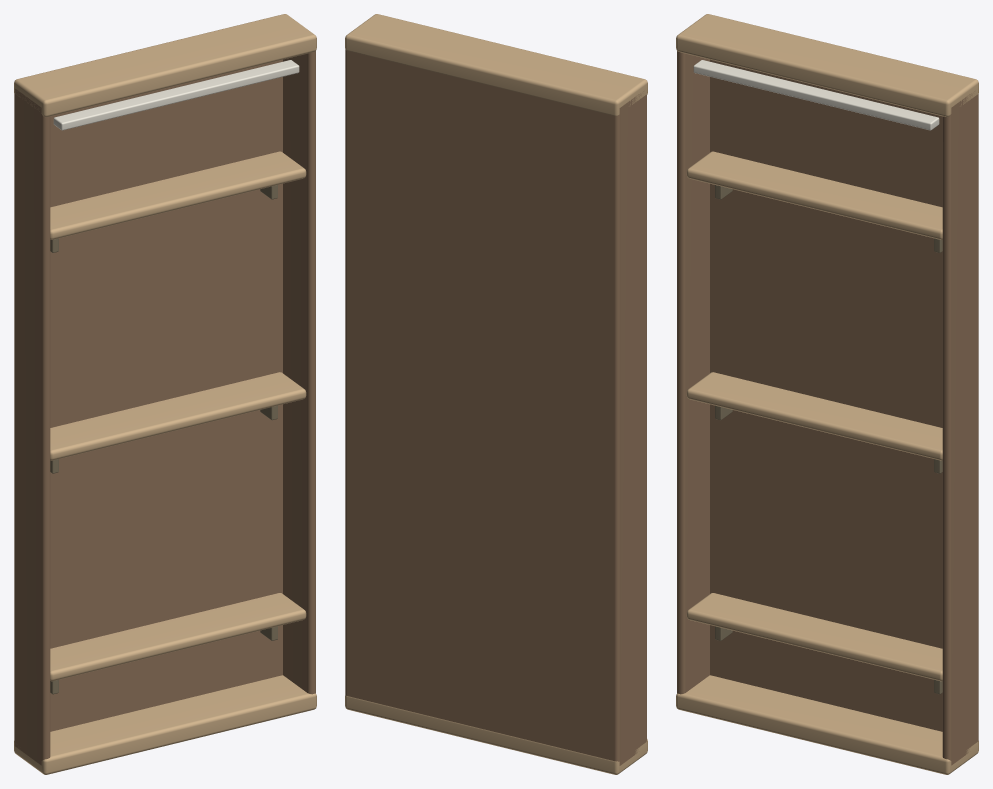
Rendered from wall_electronics_narrow.glb.
The picture shows the model from 3 angles, left to right: view 1: azimuth 30°, elevation 25°; view 2: azimuth 150°, elevation 25°; view 3: azimuth 330°, elevation 25°; orthographic projection.
Parts seen in each view (by area): view 1: Closed back, seated against existing opaque boundary, Outer stile, Outer stile.001, Bottom / crown.001, Bottom / crown, Load-bearing shelf.002, Load-bearing shelf, Load-bearing shelf.001, Integrated light diffuser; view 2: Closed back, seated against existing opaque boundary, Outer stile, Bottom / crown.001, Bottom / crown; view 3: Closed back, seated against existing opaque boundary, Outer stile.001, Outer stile, Bottom / crown.001, Bottom / crown, Load-bearing shelf.002, Load-bearing shelf, Load-bearing shelf.001, Integrated light diffuser.
Boxes of the visible parts, x1,y1,x2,y2 form: Closed back, seated against existing opaque boundary: (14, 59, 282, 745); Outer stile: (15, 89, 50, 765); Outer stile.001: (283, 51, 315, 694); Bottom / crown.001: (14, 14, 316, 116); Bottom / crown: (14, 675, 316, 774); Load-bearing shelf.002: (50, 151, 306, 239); Load-bearing shelf: (50, 593, 306, 681); Load-bearing shelf.001: (50, 372, 306, 460); Integrated light diffuser: (53, 60, 299, 130); Closed back, seated against existing opaque boundary: (345, 49, 620, 765); Outer stile: (620, 91, 646, 765); Bottom / crown.001: (345, 14, 647, 115); Bottom / crown: (345, 695, 647, 774); Closed back, seated against existing opaque boundary: (710, 59, 978, 741); Outer stile.001: (942, 91, 977, 765); Outer stile: (677, 51, 709, 694); Bottom / crown.001: (676, 14, 978, 116); Bottom / crown: (676, 675, 978, 774); Load-bearing shelf.002: (686, 151, 942, 239); Load-bearing shelf: (686, 593, 942, 681); Load-bearing shelf.001: (686, 372, 942, 460); Integrated light diffuser: (693, 60, 939, 130).
Size of the model in its own units: 1 by 2.36 by 0.2.
